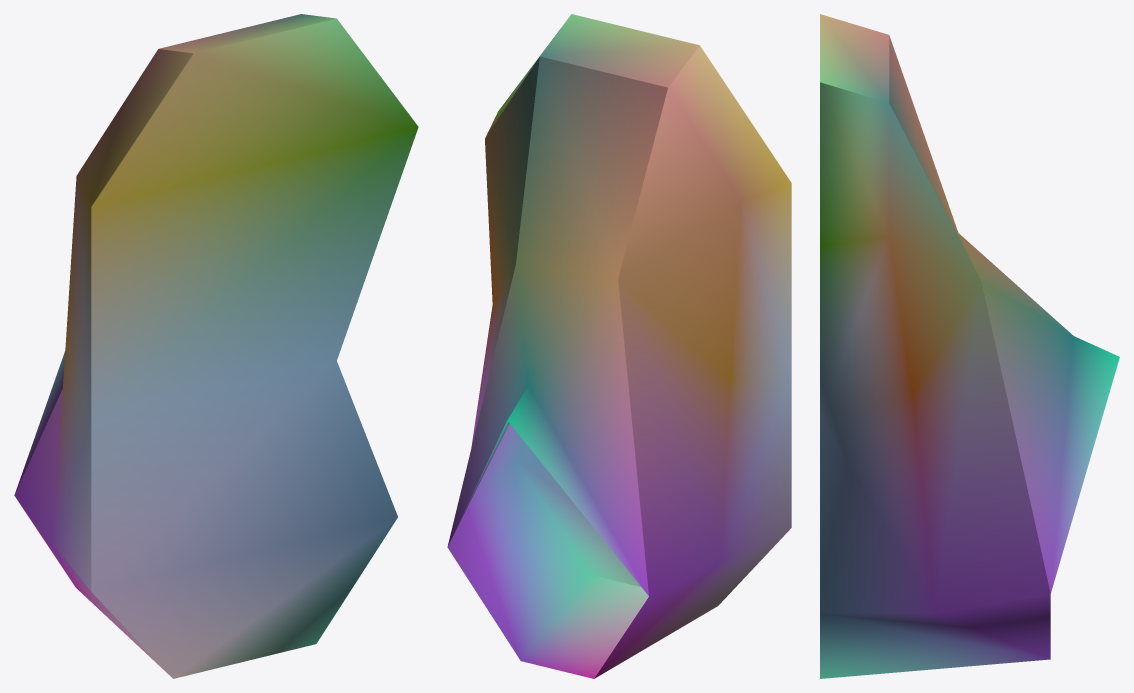
3 views of the same model, side by side, from view 1: azimuth 30°, elevation 25°; view 2: azimuth 150°, elevation 25°; view 3: azimuth 270°, elevation 25° (orthographic). The views are drawn at different scales.
Parts seen in each view (by area): view 1: part; view 2: part; view 3: part.
Boxes of the visible parts, x1,y1,x2,y2 form: part: (14,14,418,678); part: (447,14,791,678); part: (820,14,1119,678).
Bounding box in the file's own units: 16 × 29 × 13.
